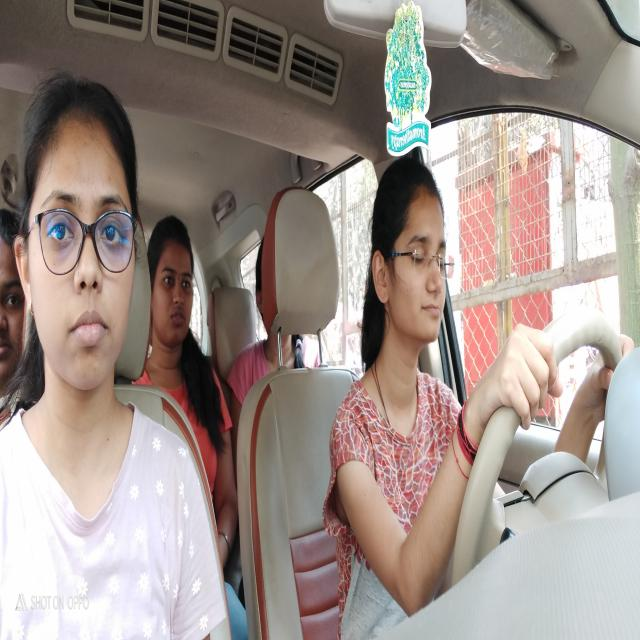drowsy: (368, 171, 446, 343)
person: (16, 90, 138, 396), (154, 220, 196, 343), (0, 222, 20, 372)
